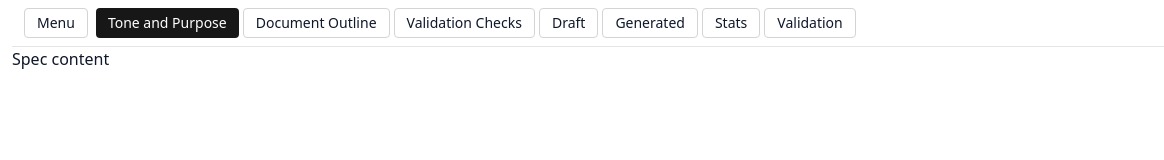
MobileWorkspaceLayout › clicking a tab switches the visible pane
The image size is (1164, 160).
What coordinates should you click on to do the following:
click the tab "Document Outline"
I would click on:
 (316, 23)
Its box is [243,8,390,38].
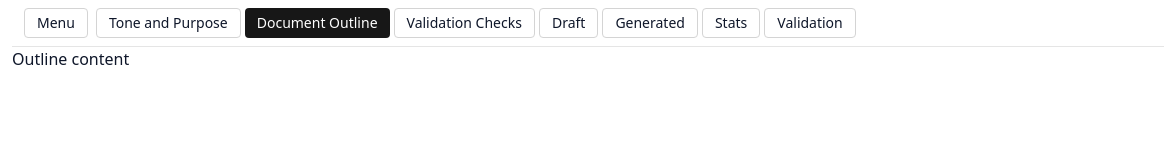
Expected: the element with test id "mobile-active-pane-outline" is shown, [12,48,129,70]
Expected: the text "Outline content" is shown, [12,47,129,71]
What coordinates should you click on to do the following:
click the tab "Validation"
I would click on:
 (810, 23)
Its box is [764,8,856,38].
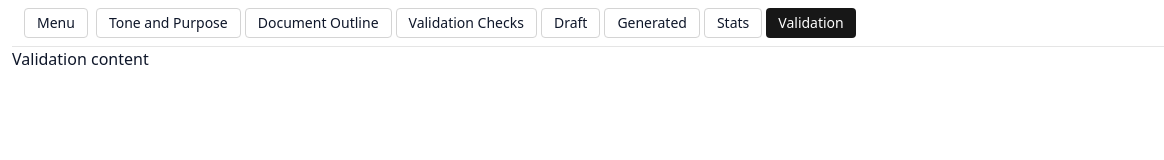
Expected: the text "Validation content" is shown, [12,47,149,71]
